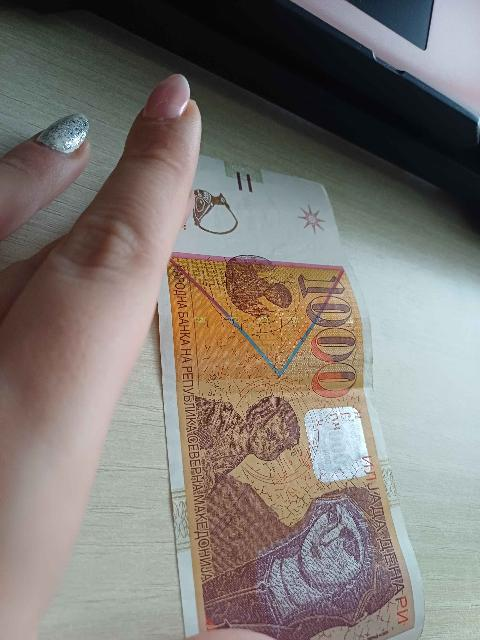1000_note: (153, 157, 426, 639)
